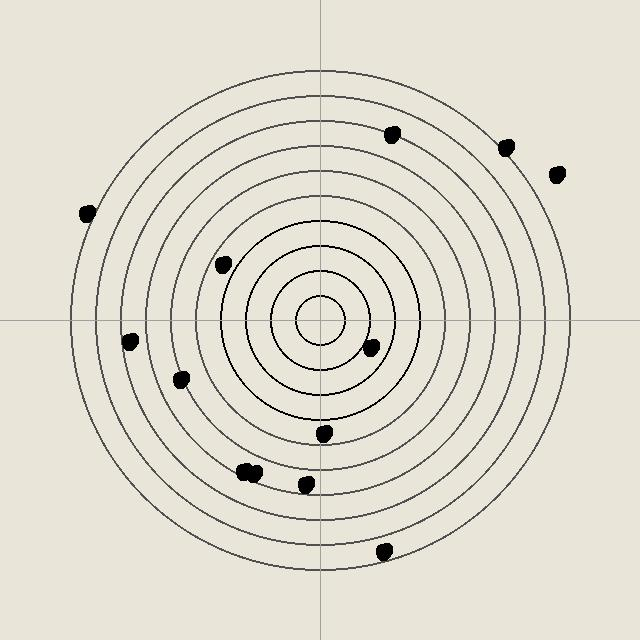random_scatter: (212, 254, 232, 274), (360, 337, 380, 357), (119, 331, 139, 351), (373, 541, 393, 561), (295, 474, 315, 494), (233, 461, 253, 481), (546, 164, 566, 184), (381, 124, 401, 144), (170, 369, 190, 389), (313, 423, 333, 443), (76, 203, 96, 223), (495, 137, 515, 157), (243, 463, 263, 483)
